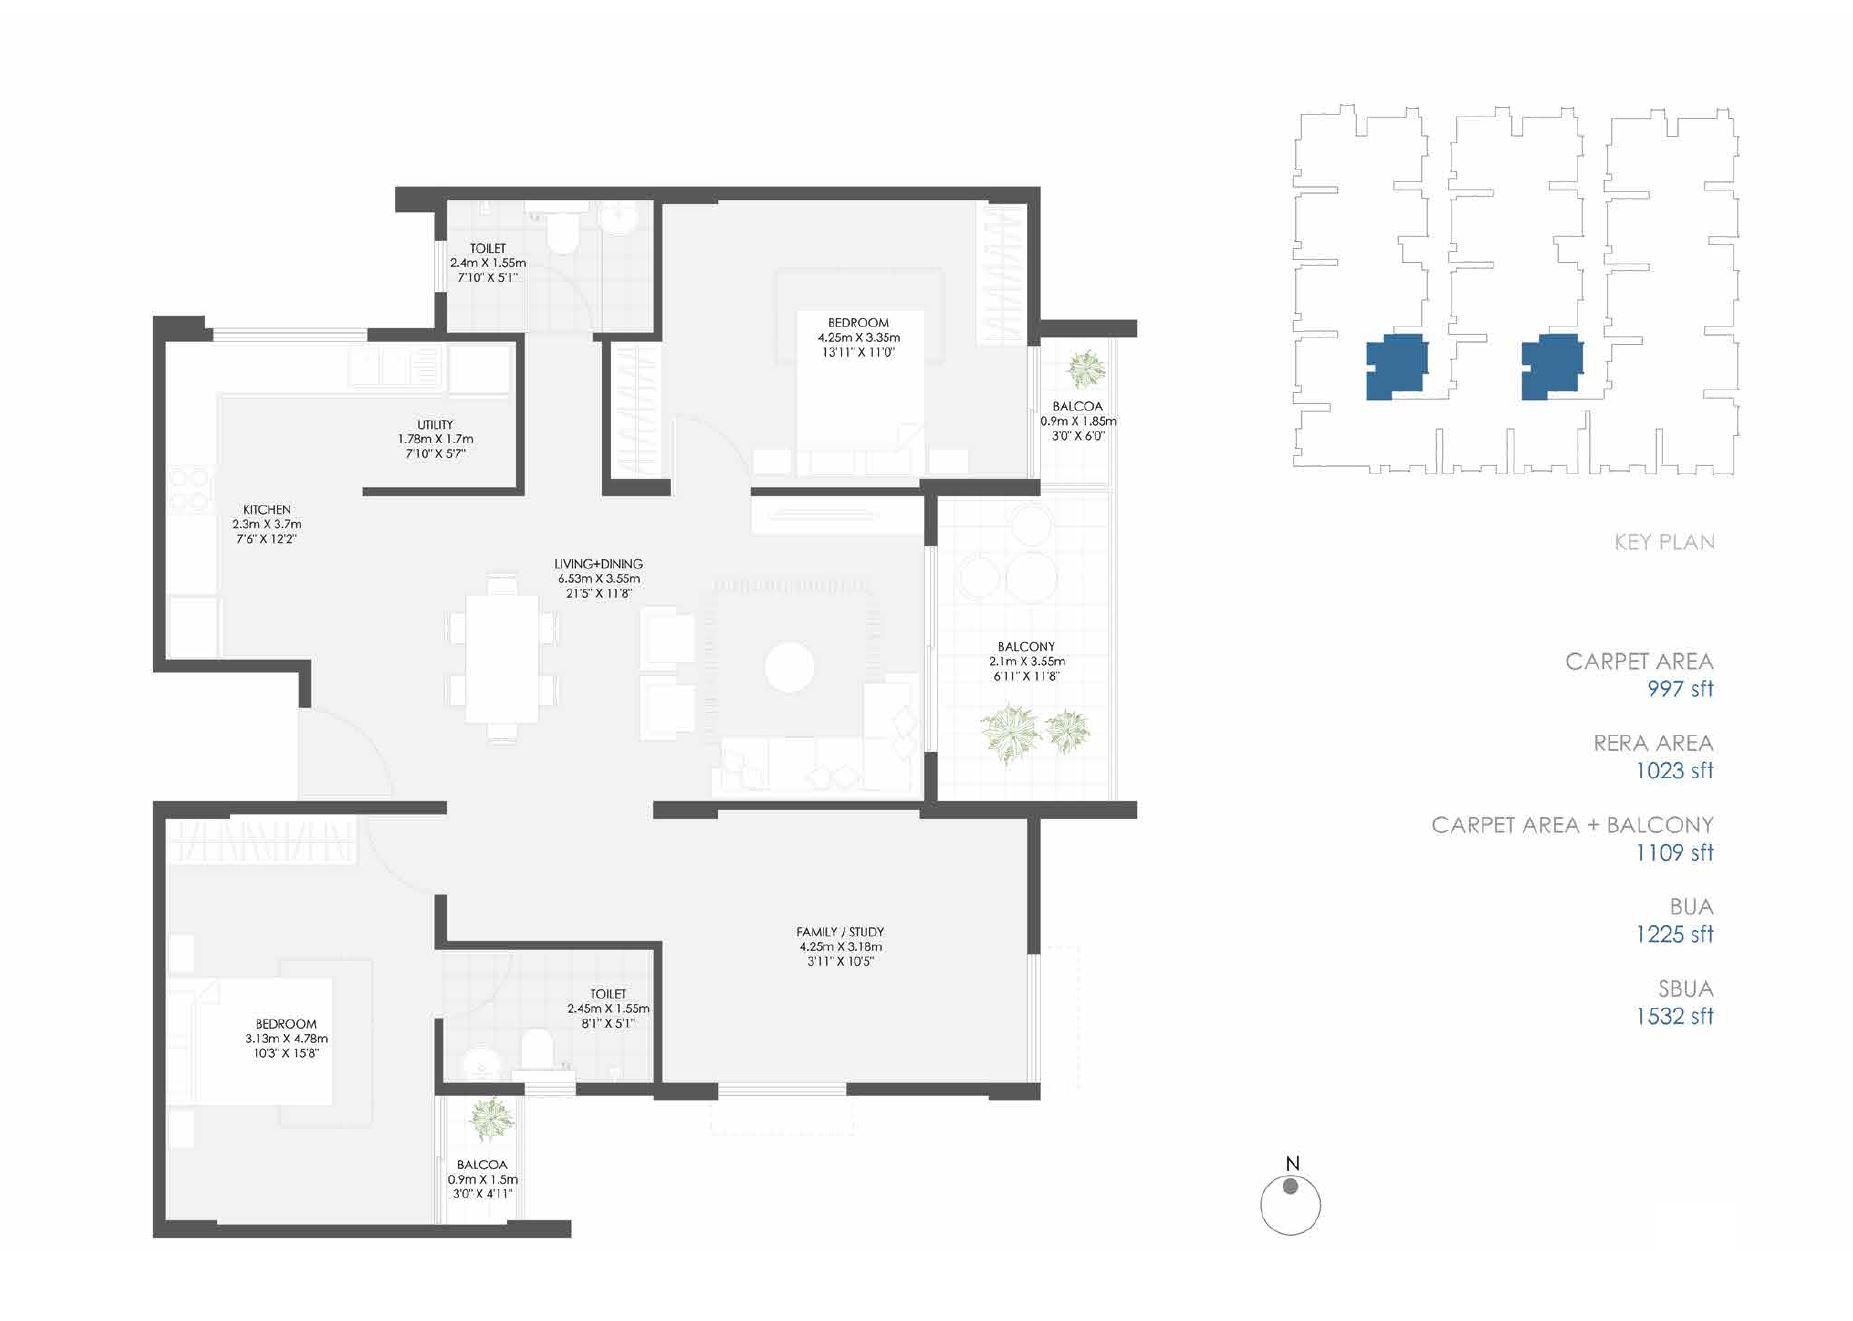Balcony: (929, 490, 1112, 813)
Bed: (164, 974, 330, 1112), (791, 310, 922, 485)
Bedroom: (164, 818, 436, 1219), (665, 202, 1027, 485)
Dining Room: (360, 500, 618, 789)
Dining table: (425, 566, 570, 735)
Kitchen: (164, 342, 360, 663)
Living Room: (611, 495, 922, 802)
Sofa: (716, 741, 914, 796), (862, 666, 922, 796), (632, 606, 696, 678), (636, 678, 693, 742)
Wardrobe: (160, 821, 356, 864), (611, 339, 663, 478), (977, 206, 1028, 346)
balcoa: (1038, 337, 1117, 486), (440, 1092, 523, 1222)
commode: (540, 212, 582, 256), (523, 1019, 556, 1074)
door: (292, 702, 392, 801), (912, 545, 954, 762), (666, 415, 752, 492), (362, 821, 448, 896), (510, 256, 592, 335), (436, 949, 513, 1019)
kitchen-slab: (162, 337, 450, 400), (164, 337, 220, 656)
sink: (360, 345, 442, 396), (162, 462, 224, 520), (460, 1047, 498, 1082), (601, 206, 636, 240)
study: (663, 816, 1029, 1079)
toilet: (439, 949, 656, 1085), (440, 199, 656, 332)
tv: (753, 498, 889, 535)
utility: (352, 342, 518, 486)
